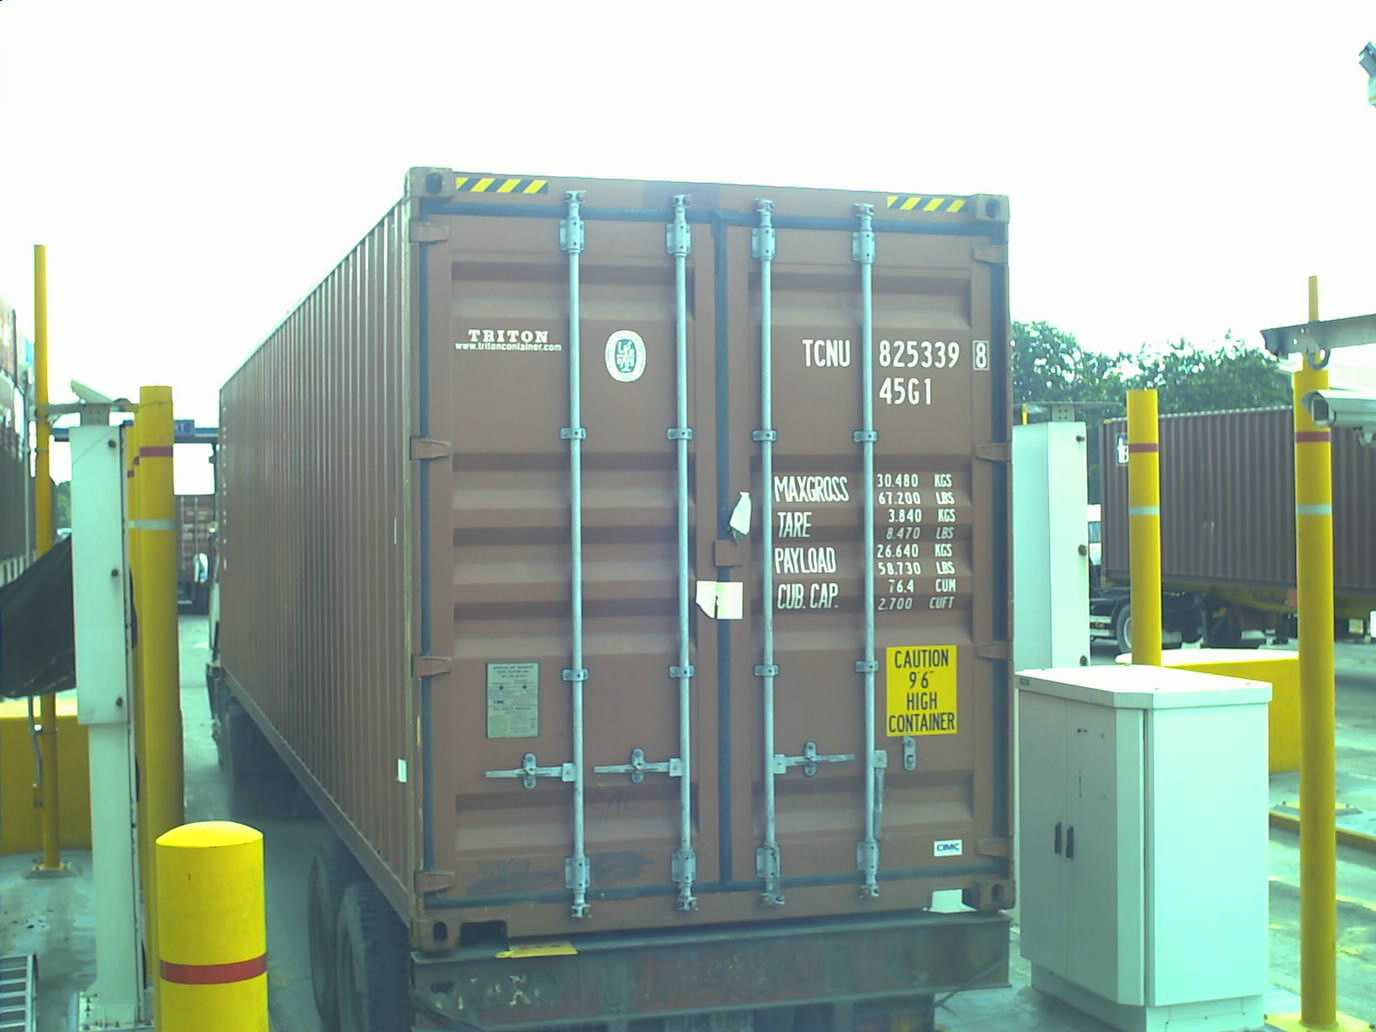container_door: (392, 159, 1018, 931)
